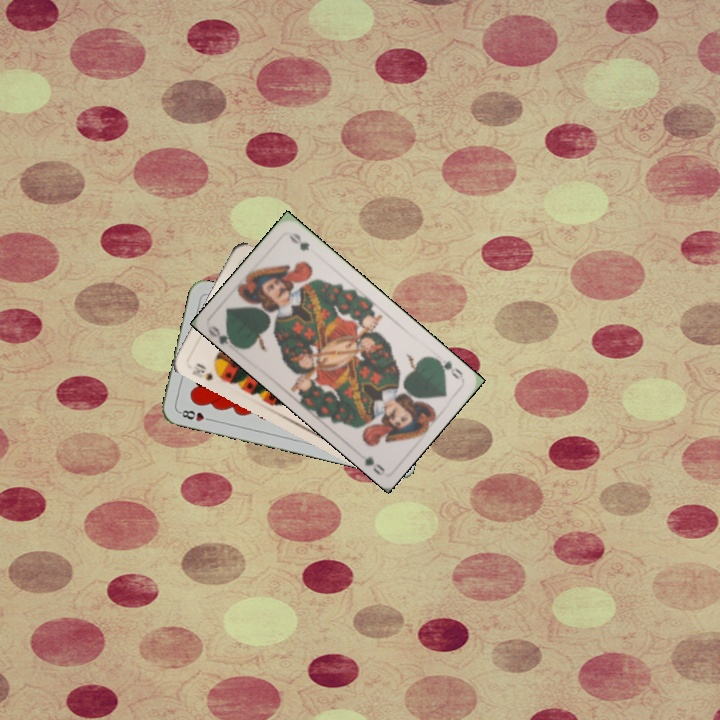GO: (206, 321, 242, 351), (430, 353, 466, 382)
H8: (175, 406, 215, 424)
S10: (188, 359, 225, 383)
